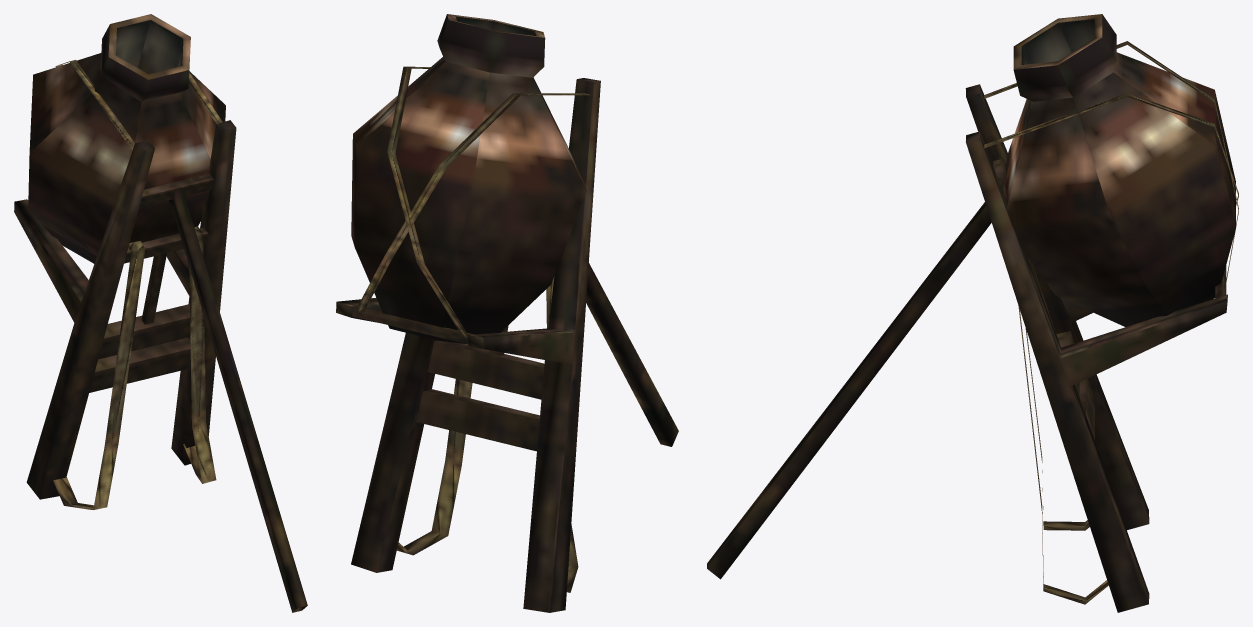
Rendered from b_general_obj_10_01.fbx.
3 renders of one model, left to right at view 1: azimuth 30°, elevation 25°; view 2: azimuth 150°, elevation 25°; view 3: azimuth 270°, elevation 25°, orthographic. The views are drawn at different scales.
Parts seen in each view (by area): view 1: B_general_obj_06; view 2: B_general_obj_06; view 3: B_general_obj_06.
Boxes of the visible parts, bbox=[...] form: B_general_obj_06: bbox=[14, 14, 307, 612]; B_general_obj_06: bbox=[336, 14, 678, 612]; B_general_obj_06: bbox=[707, 14, 1238, 612].
Size of the model in its own units: 0.9218 by 2.12 by 1.86.
